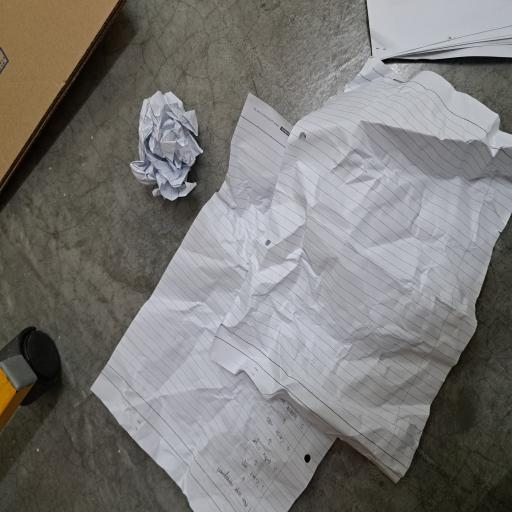cardboard: (245, 0, 384, 160)
paper: (0, 123, 338, 512), (235, 173, 317, 273)
